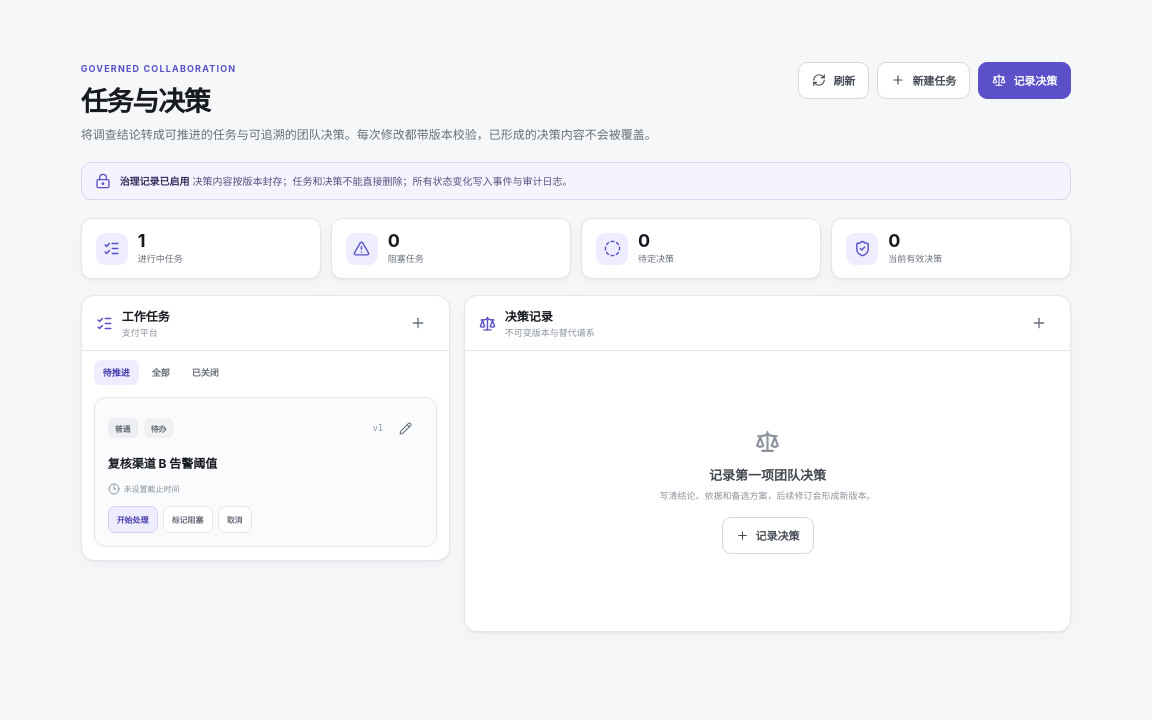
Test: CollaborationView task creation › maps invalid assignees to an actionable message
expect the heading "复核渠道 B 告警阈值" is shown: met, box [108,456,217,471]
Click the button "新建任务": (924, 80) [877,62,970,99]
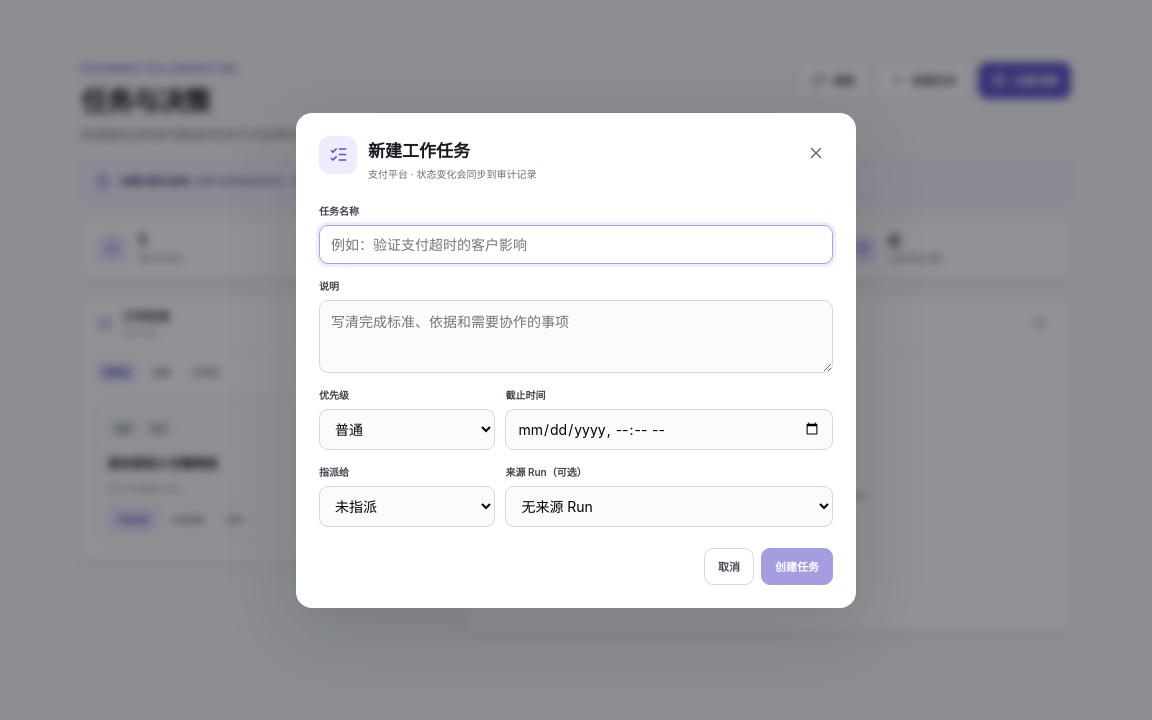
expect the heading "新建工作任务" is shown: met, box [368,140,470,160]
In the field labelled "任务名称": (576, 244) [319,224,833,264], type "指派外部成员"
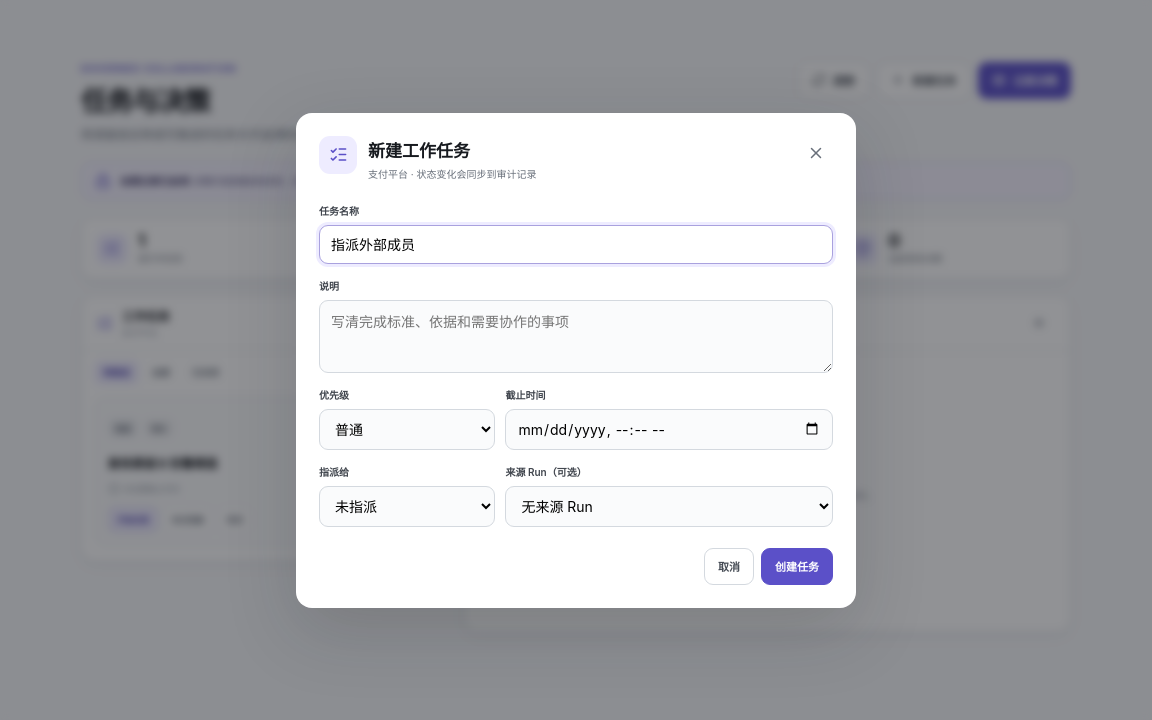
Click the button "创建任务": (797, 566) [761,548,833,584]
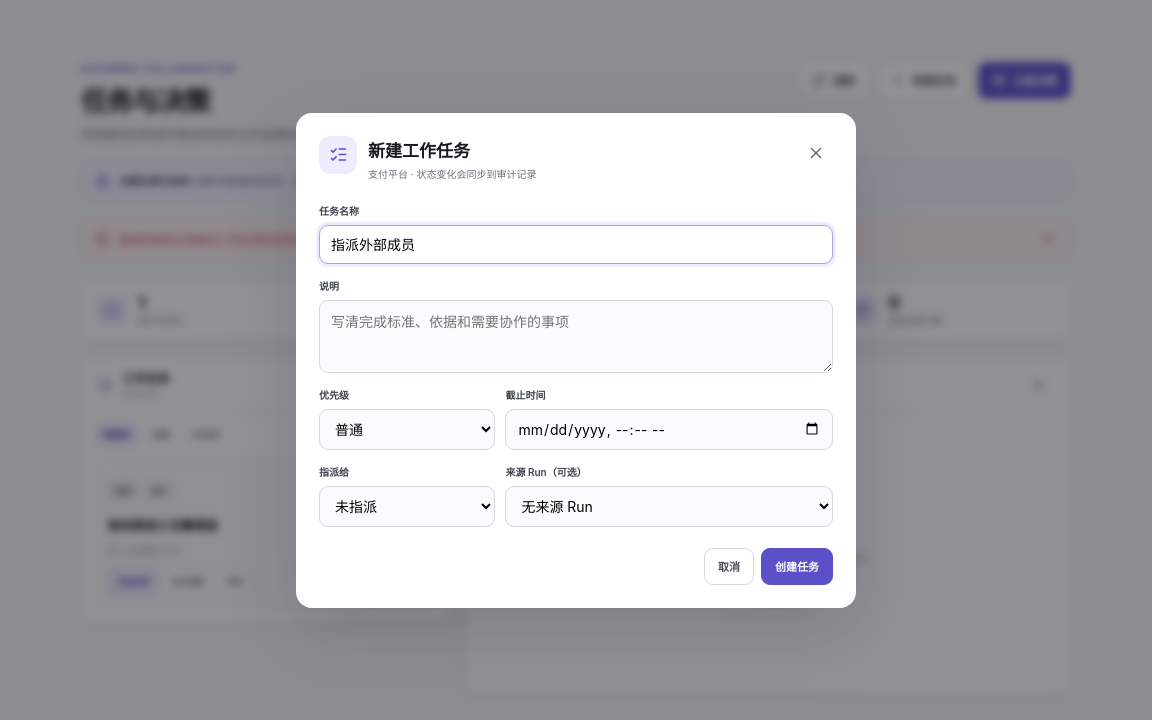
expect the text "指派的成员必须是该工作空间的在职成员，请刷新成员列表后重试。" is shown: met, box [118,231,448,247]
